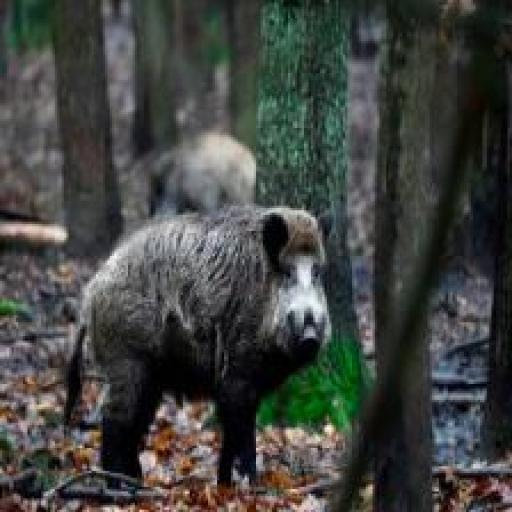Pig: (44, 190, 340, 506)
